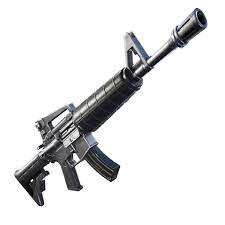gun: (13, 6, 208, 207)
